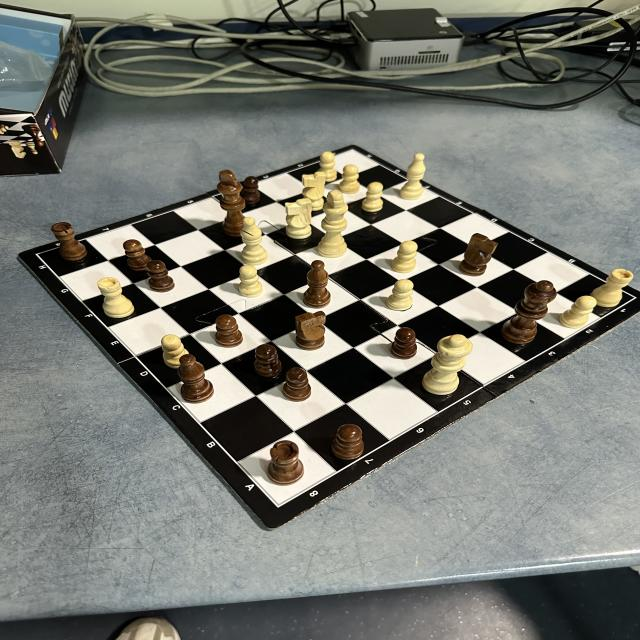Black-Bishop: (177, 354, 214, 404), (303, 260, 331, 308)
Black-King: (216, 169, 246, 237)
Black-Knight: (458, 232, 499, 276), (294, 310, 326, 350)
Black-Pawn: (330, 424, 364, 460), (253, 343, 283, 377), (122, 239, 152, 272), (282, 367, 310, 402), (146, 260, 175, 293), (215, 314, 243, 348), (390, 328, 418, 360), (243, 176, 261, 206)
Black-Queen: (500, 280, 557, 344)
Black-Rook: (267, 440, 304, 486), (50, 222, 87, 262)
White-Bishop: (240, 217, 268, 266), (399, 153, 426, 200)
White-King: (317, 190, 348, 258)
White-Knight: (284, 198, 312, 239), (302, 171, 326, 211)
White-Pawn: (559, 295, 597, 329), (161, 334, 190, 370), (391, 240, 418, 274), (386, 279, 414, 311), (238, 264, 262, 298), (338, 164, 361, 194), (362, 182, 384, 212), (317, 151, 338, 182)
White-Queen: (422, 334, 472, 396)
White-Rook: (591, 268, 634, 308), (97, 277, 134, 318)
